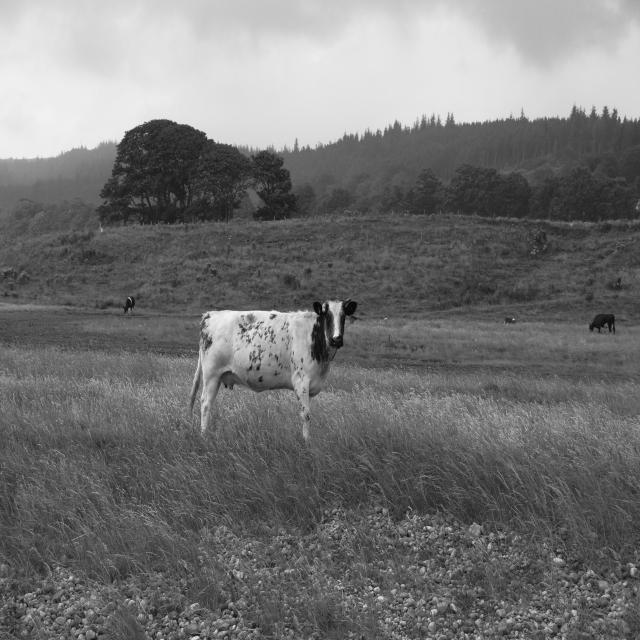cow: (190, 300, 356, 440)
